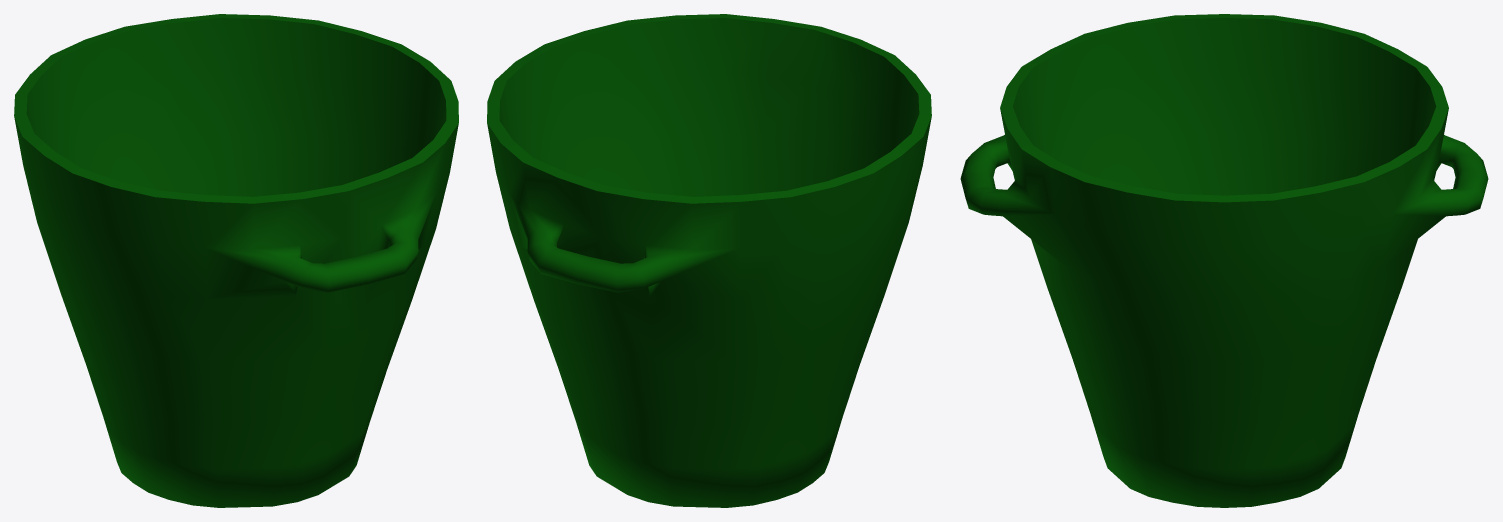
The model's file is jug05.FBX.
3 renders of one model, left to right at view 1: azimuth 30°, elevation 25°; view 2: azimuth 150°, elevation 25°; view 3: azimuth 270°, elevation 25°, orthographic.
Visible parts, largest first — view 1: SM_jug05_0; view 2: SM_jug05_0; view 3: SM_jug05_0.
Boxes of the visible parts, bbox=[...] form: SM_jug05_0: bbox=[14, 14, 458, 507]; SM_jug05_0: bbox=[487, 14, 931, 507]; SM_jug05_0: bbox=[960, 14, 1488, 507].
Bounding box in the file's own units: 39.67 × 46.98 × 34.41.
